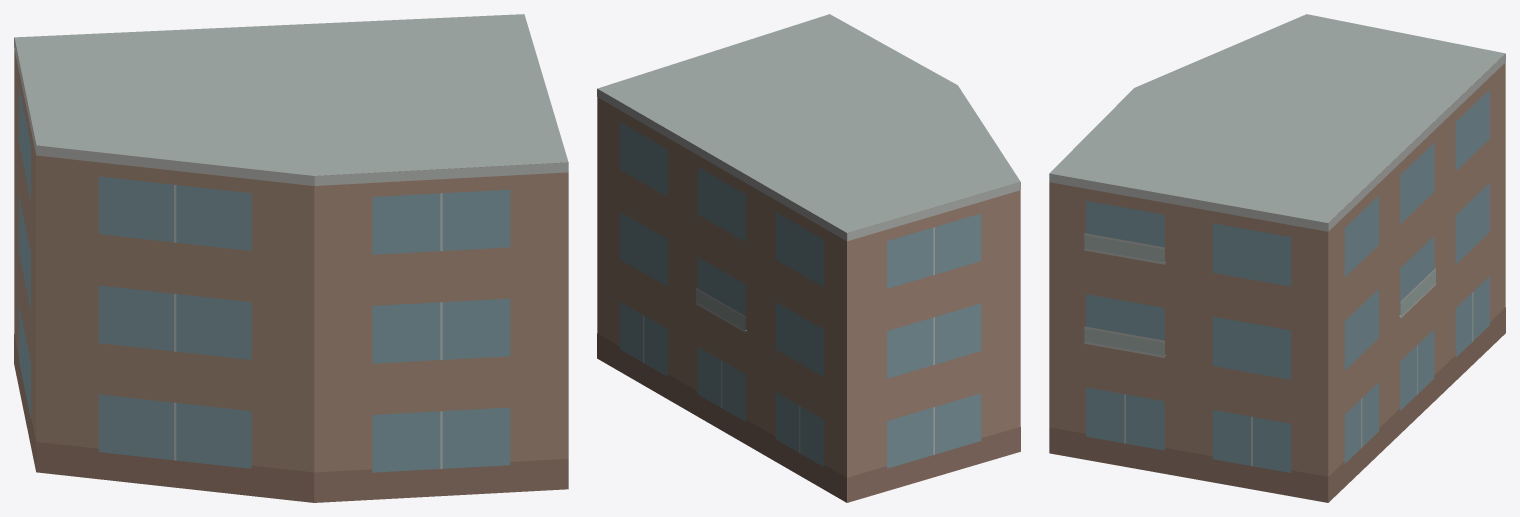
Rendered from survey-upis-32483567.glb.
3 views of the same model, side by side, from view 1: azimuth 30°, elevation 25°; view 2: azimuth 150°, elevation 25°; view 3: azimuth 270°, elevation 25° (orthographic). The views are drawn at different scales.
Parts seen in each view (by area): view 1: survey-upis-32483567.tmp; view 2: survey-upis-32483567.tmp; view 3: survey-upis-32483567.tmp.
Part boxes in pixels (x1,y1,x2,y2): survey-upis-32483567.tmp: (14, 14, 568, 502); survey-upis-32483567.tmp: (597, 14, 1020, 502); survey-upis-32483567.tmp: (1049, 14, 1505, 502).
Size of the model in its own units: 12.67 by 7.9 by 11.69.
